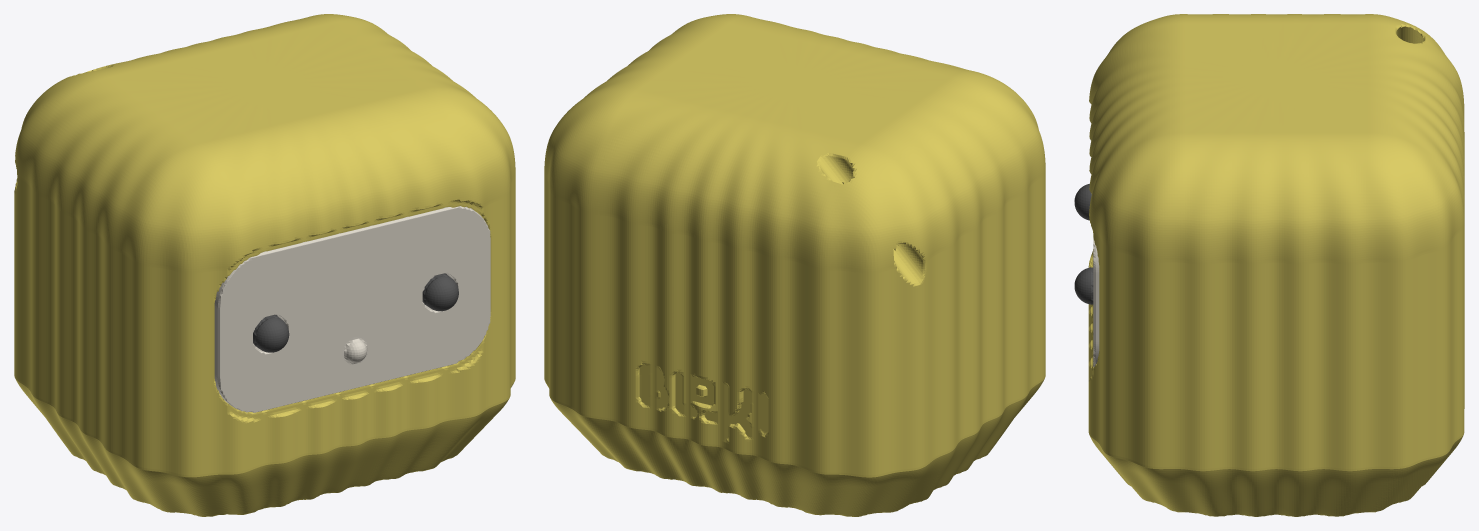
File: bloki_chaflan.glb
3 renders of one model, left to right at view 1: azimuth 30°, elevation 25°; view 2: azimuth 150°, elevation 25°; view 3: azimuth 270°, elevation 25°, orthographic.
Parts seen in each view (by area): view 1: world; view 2: world; view 3: world.
Boxes of the visible parts, x1,y1,x2,y2 form: world: (14, 14, 515, 516); world: (544, 14, 1045, 516); world: (1074, 14, 1464, 516).
Size of the model in its own units: 36.51 by 32 by 31.49.
